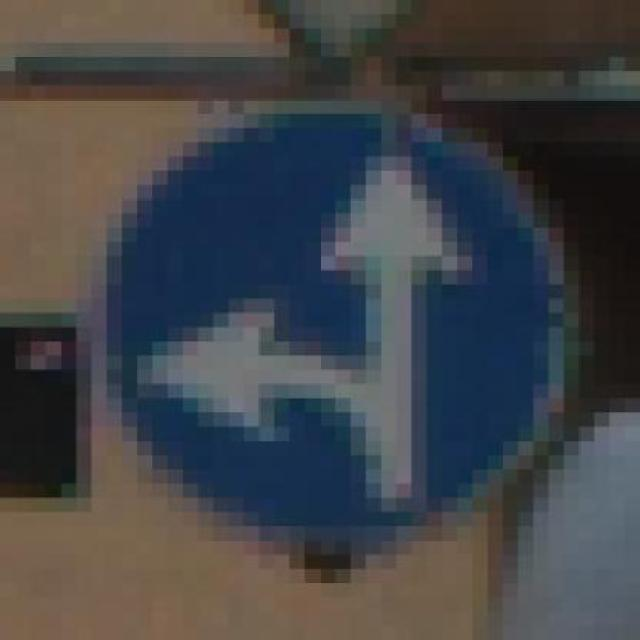Go straight or turn left: (76, 85, 595, 569)
